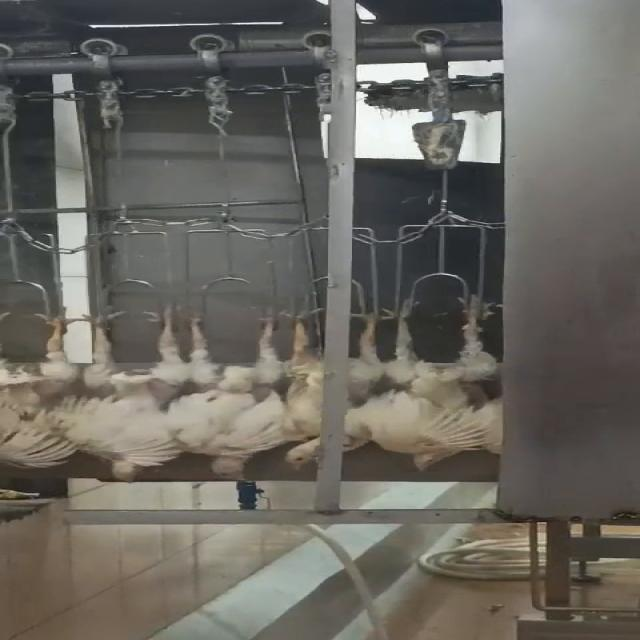chicken: (391, 281, 512, 474), (276, 288, 394, 474), (171, 300, 277, 485), (76, 302, 178, 486), (0, 310, 75, 473)
